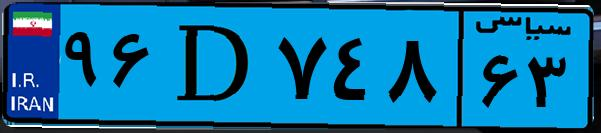3: (525, 38, 570, 115)
4: (330, 28, 385, 110)
6: (475, 38, 525, 113), (110, 28, 158, 98)
7: (270, 28, 330, 110)
8: (385, 28, 445, 110)
9: (57, 26, 110, 100)
D: (158, 12, 270, 120)
